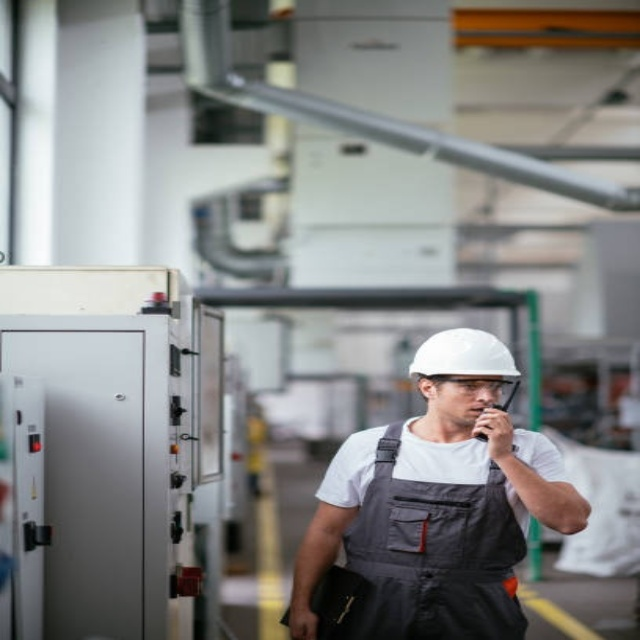Gafas: (427, 377, 515, 397)
Sin_guantes: (472, 404, 521, 453)
Sin_mascara: (456, 406, 483, 421)
